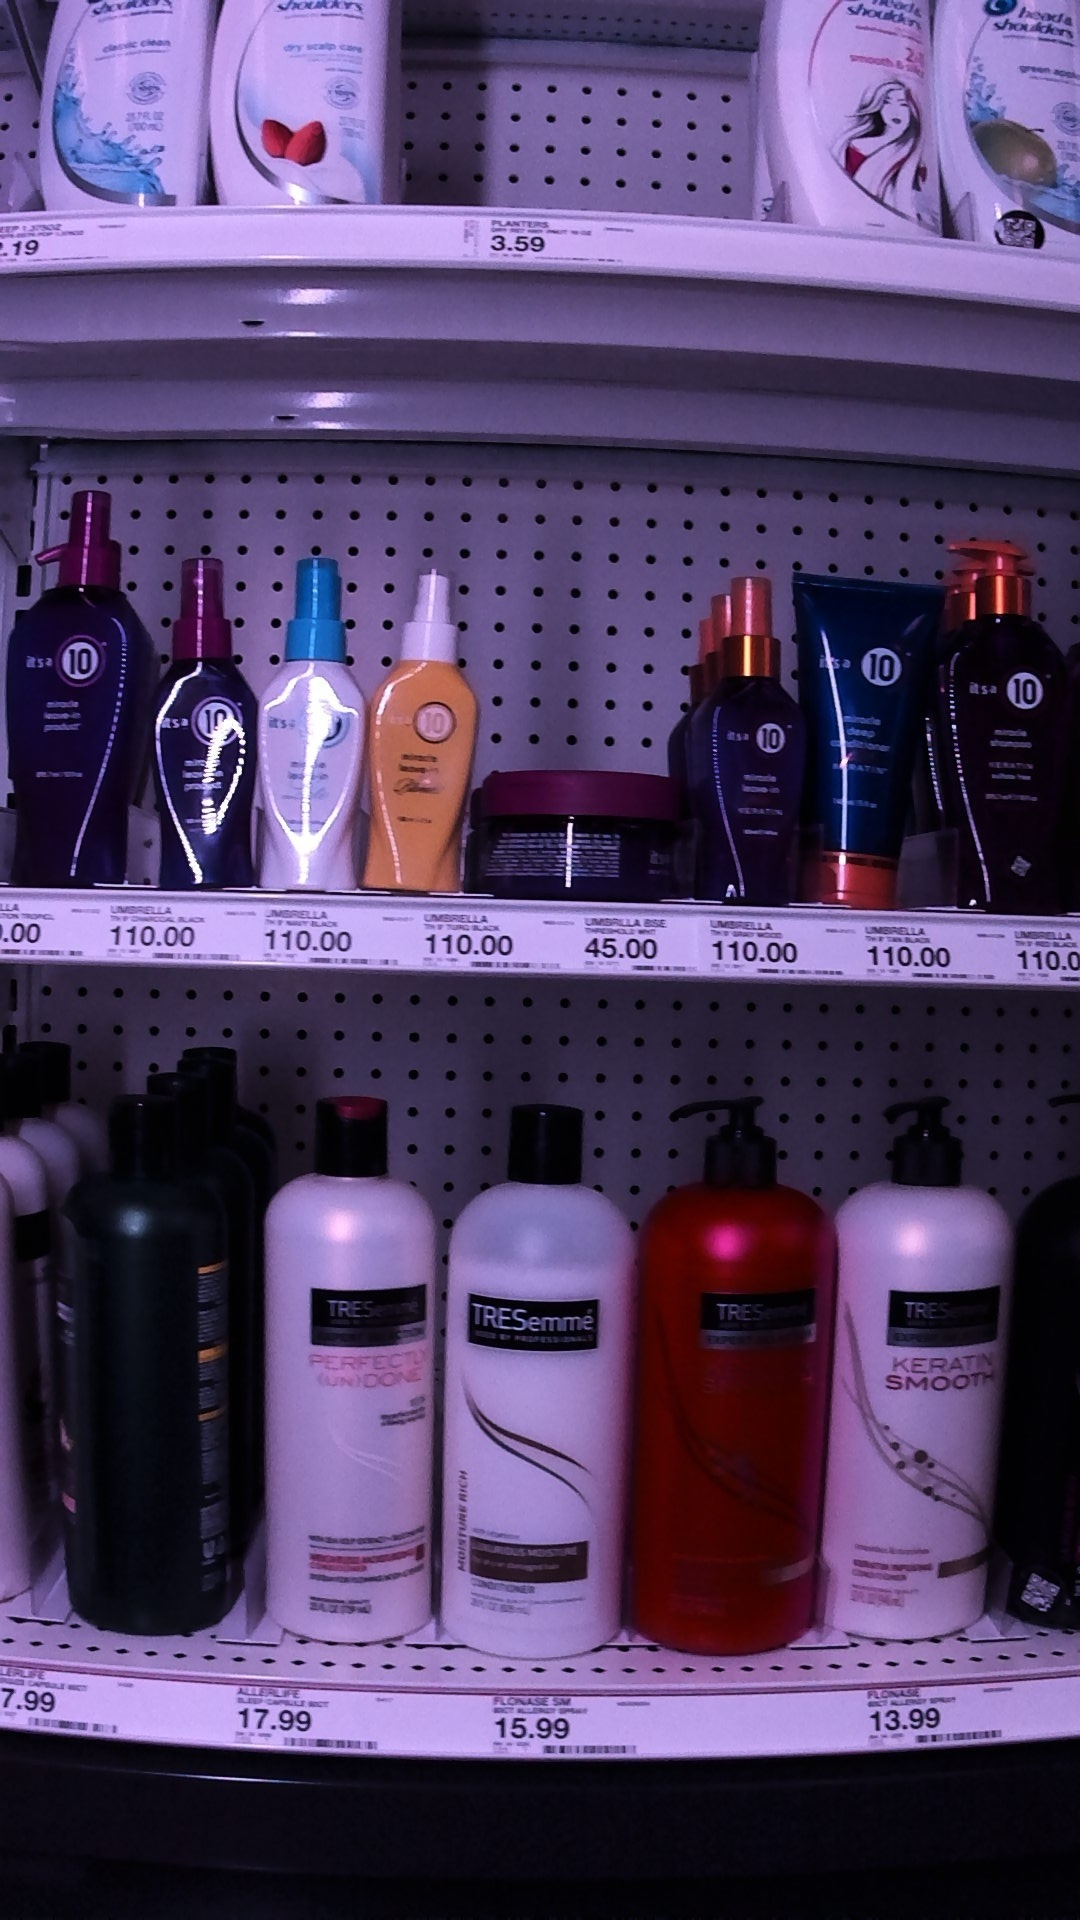ptag: (225, 1665, 389, 1762), (460, 204, 649, 286), (487, 1683, 649, 1764), (1, 1658, 144, 1741), (866, 1673, 1004, 1753), (715, 906, 829, 993), (419, 902, 541, 982), (105, 909, 247, 975), (862, 924, 989, 997), (264, 909, 393, 975), (575, 909, 691, 980), (1, 206, 100, 280), (1, 902, 104, 971)
